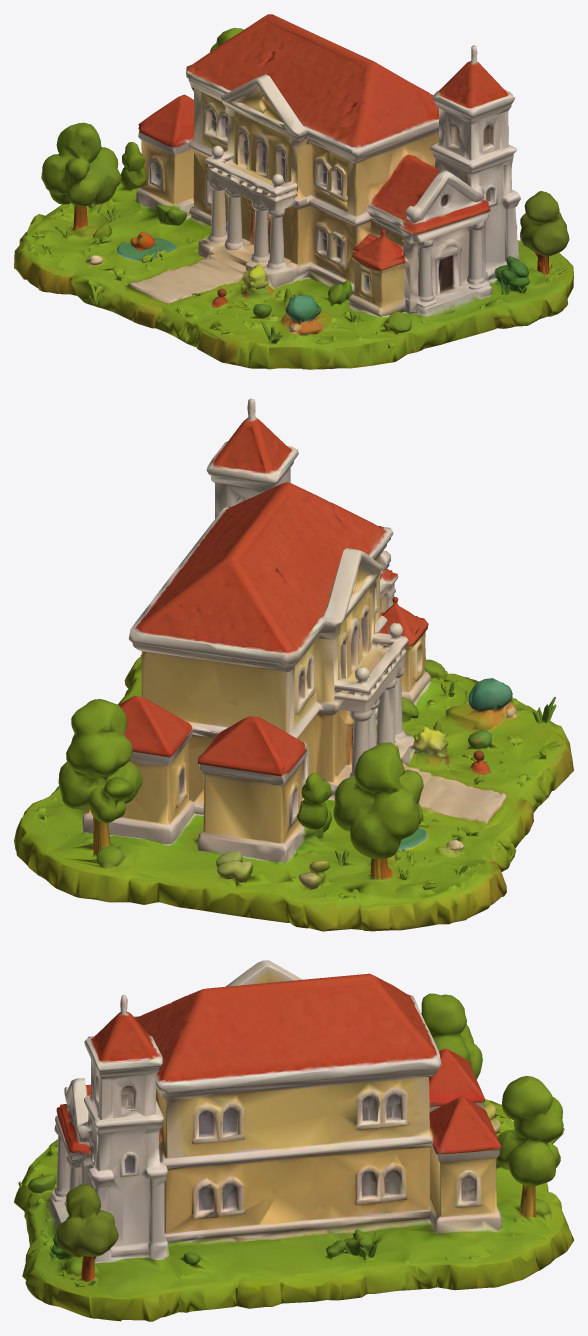
The model's file is kock.glb.
3 renders of one model, top to bottom at view 1: azimuth 30°, elevation 25°; view 2: azimuth 150°, elevation 25°; view 3: azimuth 270°, elevation 25°, orthographic. The views are drawn at different scales.
Visible parts, largest first — view 1: tripo_node_a1e16133-1b2e-4560-854d-218a1c1164f4; view 2: tripo_node_a1e16133-1b2e-4560-854d-218a1c1164f4; view 3: tripo_node_a1e16133-1b2e-4560-854d-218a1c1164f4.
Part boxes in pixels (left/top/right/bottom): tripo_node_a1e16133-1b2e-4560-854d-218a1c1164f4: left=14, top=14, right=573, bottom=369; tripo_node_a1e16133-1b2e-4560-854d-218a1c1164f4: left=14, top=398, right=573, bottom=931; tripo_node_a1e16133-1b2e-4560-854d-218a1c1164f4: left=14, top=960, right=573, bottom=1321.
Size of the model in its own units: 0.9372 by 0.5372 by 0.9823.
1 material, 1 textured.
